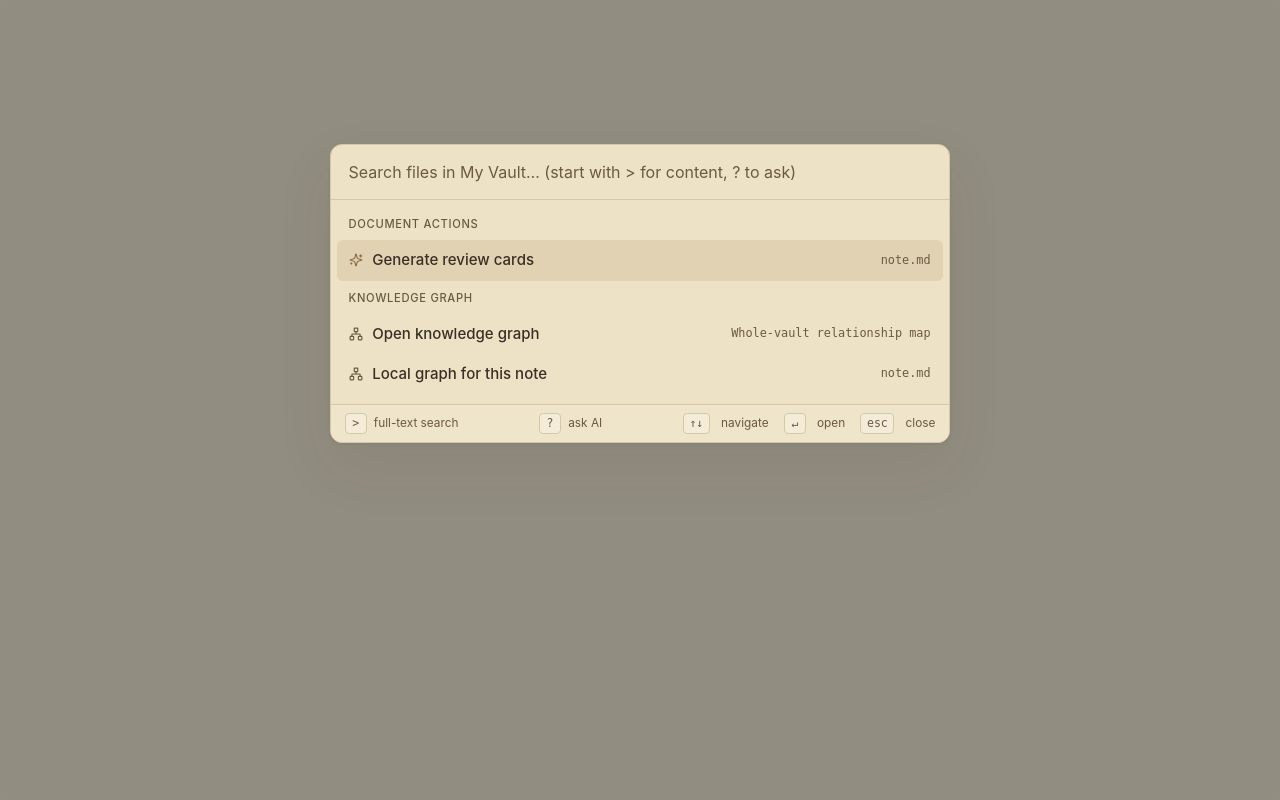
CommandPalette — `?` ask mode (Phase 3) › shows the ask-mode hint when the user has typed only `?`
In the dropdown with placeholder "Search files": (640, 173) [331,145,949,200], type "?"
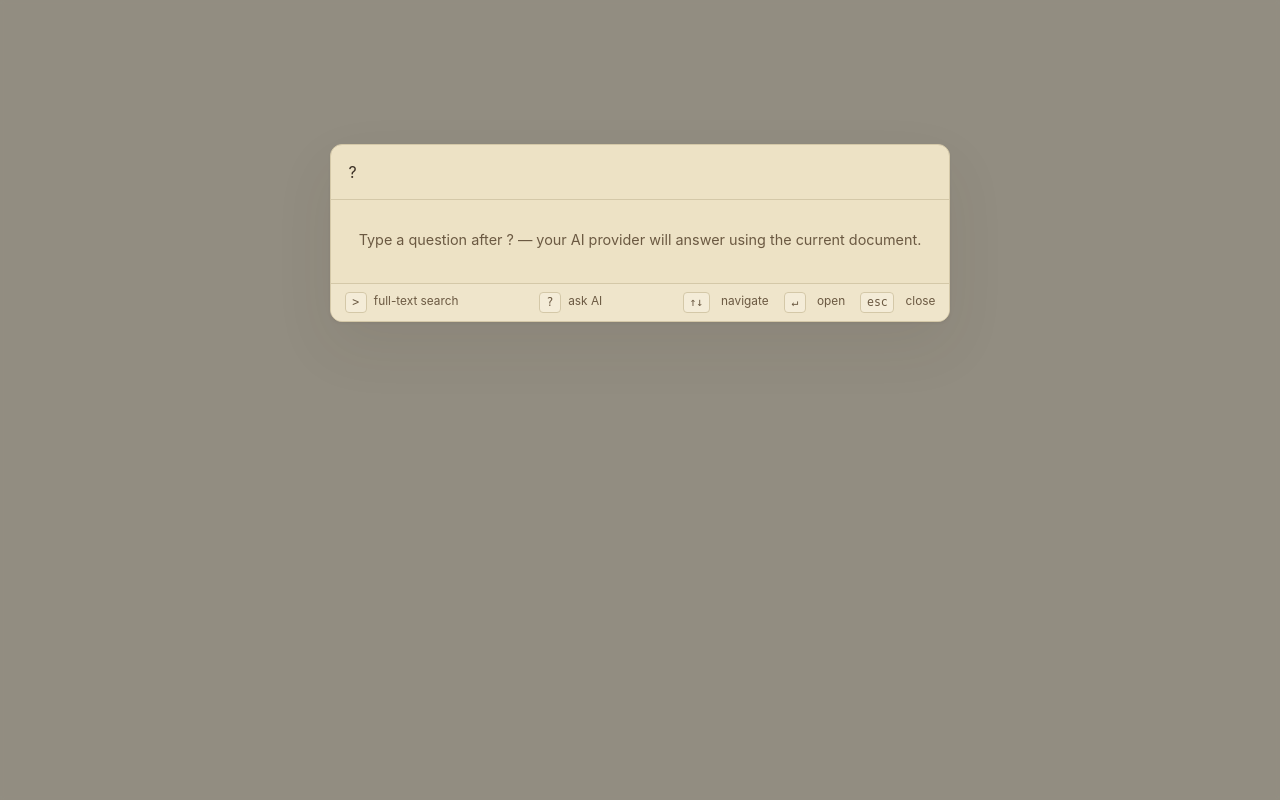
Check: the text "your AI provider will answer" is shown, box [359,231,921,248]
